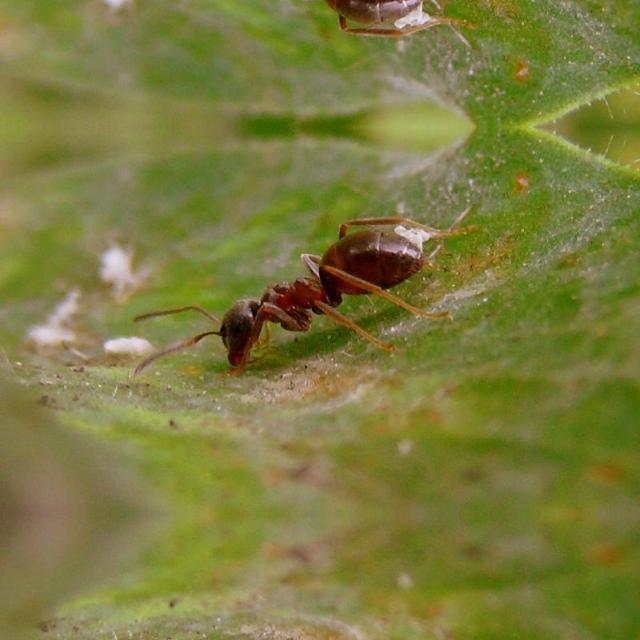Lasius: (178, 184, 442, 380), (176, 0, 442, 68)
